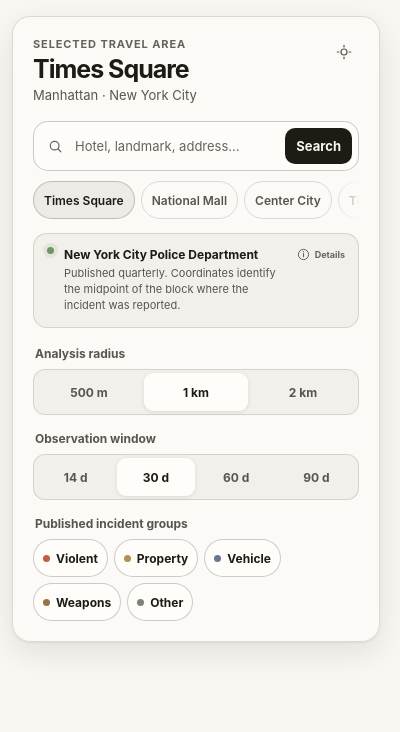
Test: SearchPanel › shows validation feedback for a short query
Type "NY" into the field named "Search a US address or landmark". click: [176, 146]
box: x1=75 y1=122 x2=277 y2=170
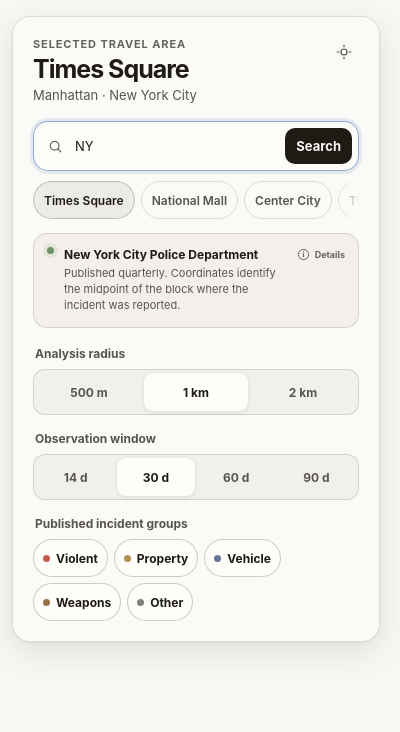
Click the button "Search". click: [319, 146]
box: x1=285 y1=128 x2=352 y2=164
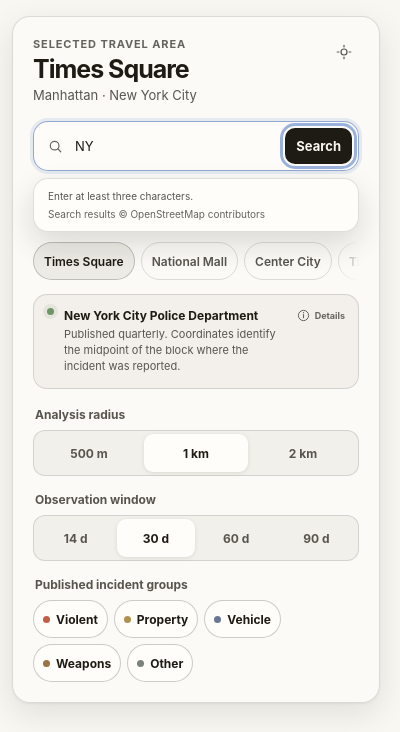
Now the text "Enter at least three characters." is shown, box x1=48 y1=190 x2=193 y2=202
